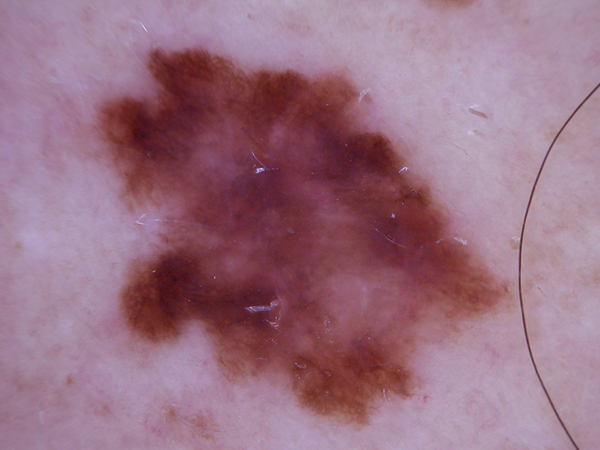Detected Lesion: (96, 43, 519, 430)
